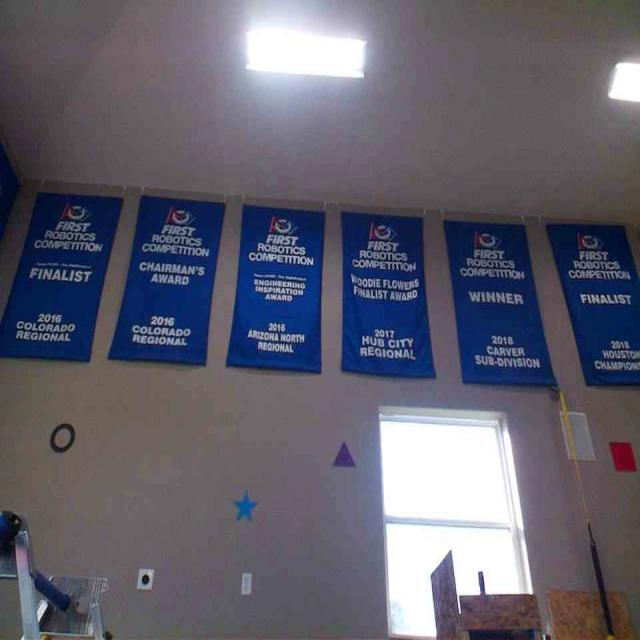ring_black: (49, 422, 76, 452)
square_red: (606, 440, 638, 471)
star_blue: (231, 489, 260, 523)
triangle_purple: (332, 440, 356, 466)
